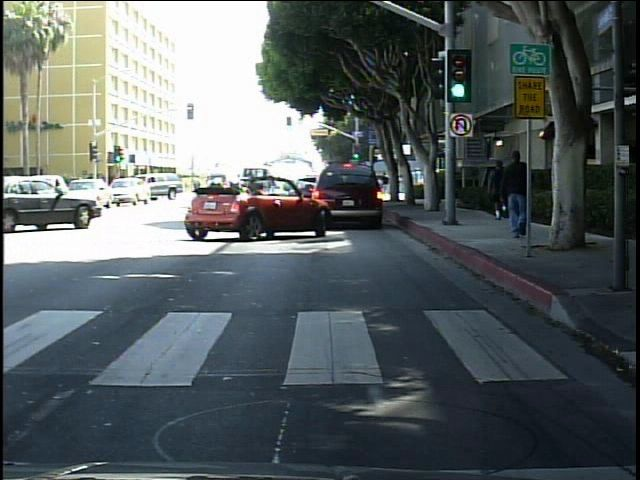person: (500, 141, 530, 239), (489, 156, 511, 222), (412, 165, 425, 186)
